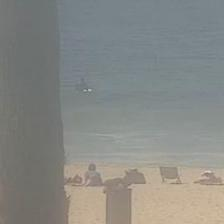surfer: (76, 79, 92, 93)
